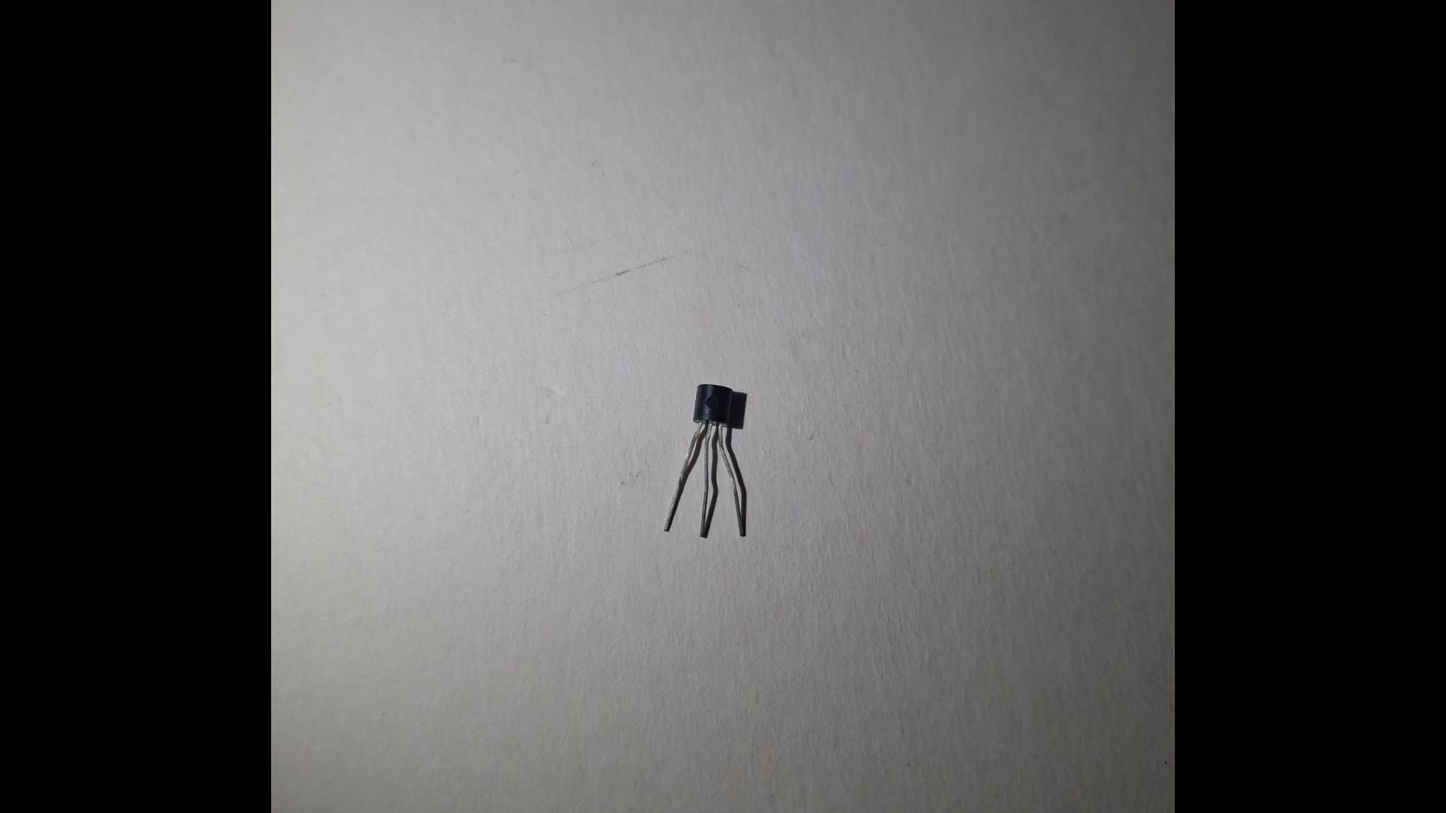Transistor: (630, 329, 798, 582)
